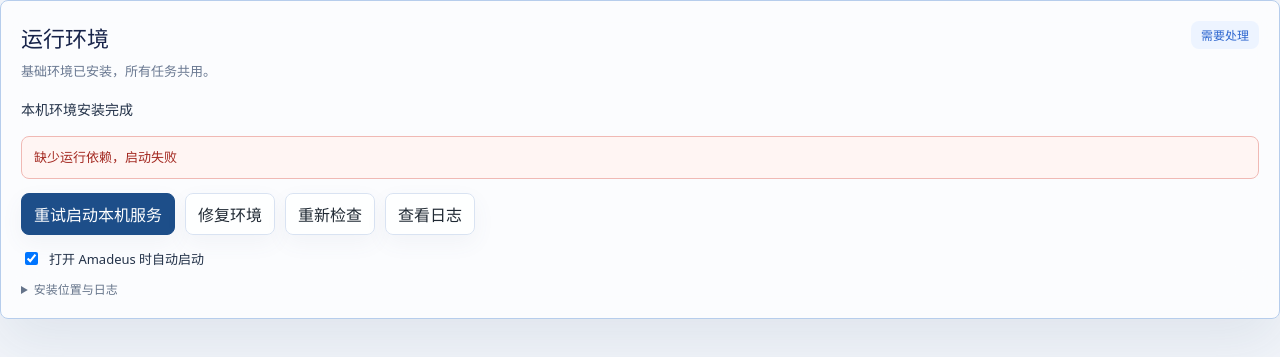
Test: Windows local environment setup › repairs an installed environment after startup failure without starting or replacing a remote URL
The image size is (1280, 357).
Click the button "修复环境": [230, 214] box 185,193 -> 275,235
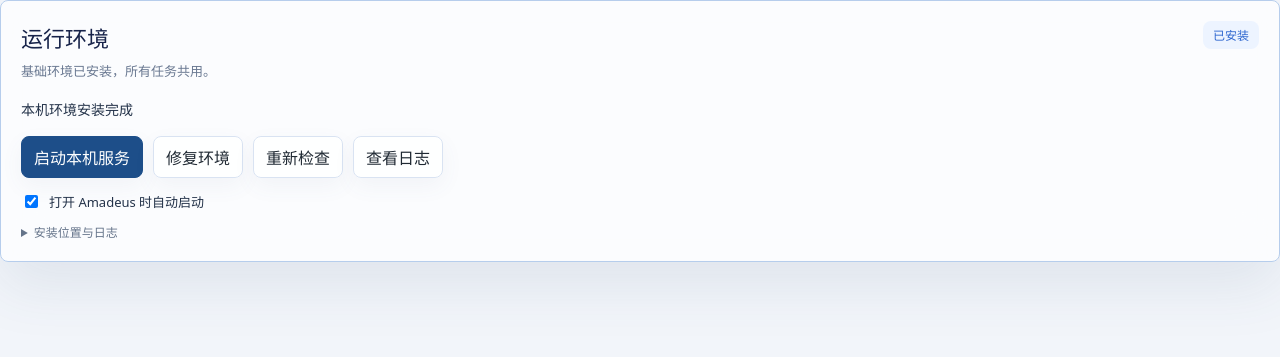
Expected: the button "启动本机服务" is shown, 21,136 -> 143,178
Now the message "缺少运行依赖，启动失败" is gone
